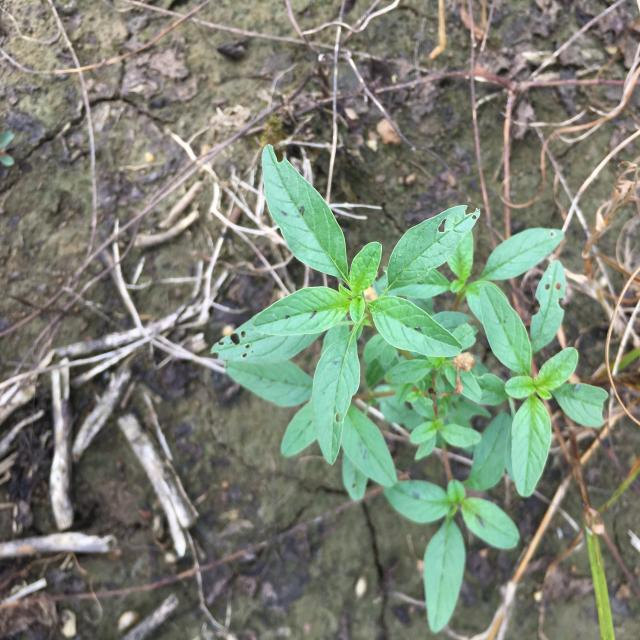Waterhemp: (210, 144, 610, 633)
